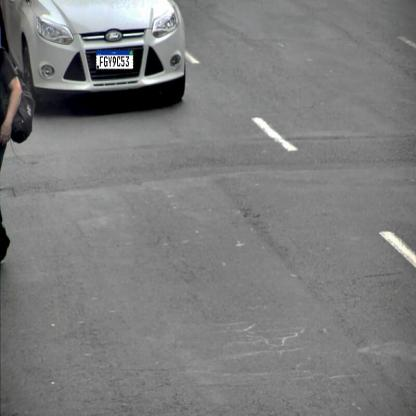PlacaM: (96, 49, 134, 70)
